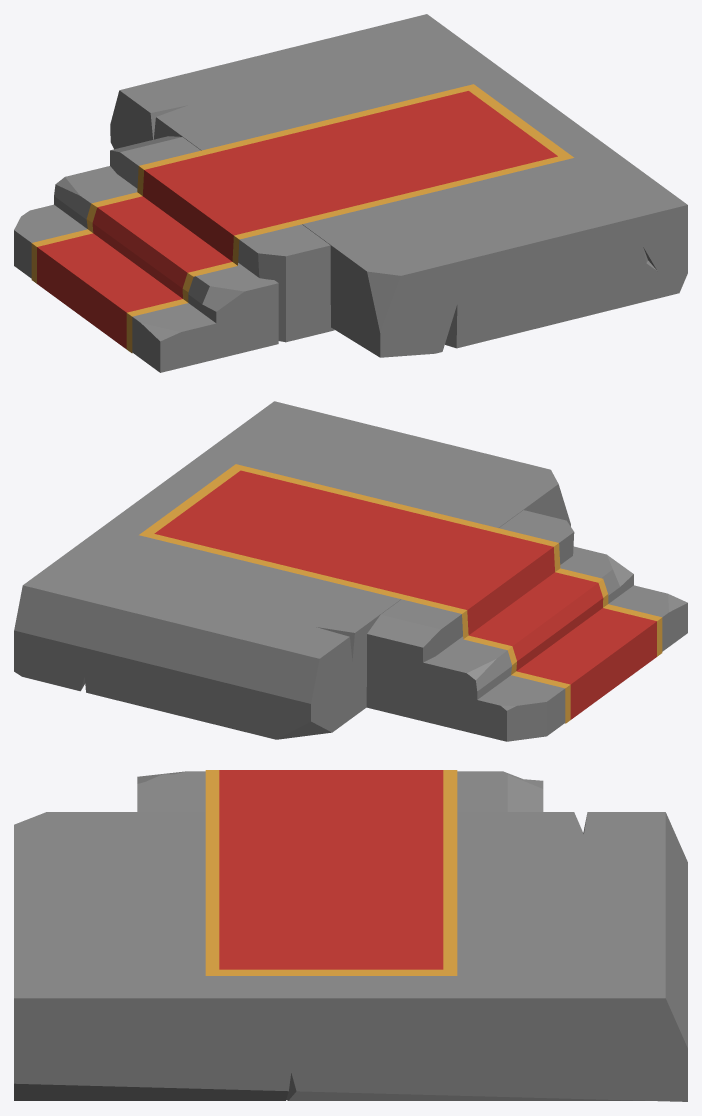
The model's file is DisplayStand_carpet.fbx.
The picture shows the model from 3 angles, top to bottom: view 1: azimuth 30°, elevation 25°; view 2: azimuth 150°, elevation 25°; view 3: azimuth 270°, elevation 25°; orthographic projection. The views are drawn at different scales.
Parts seen in each view (by area): view 1: Cube.006; view 2: Cube.006; view 3: Cube.006.
Boxes of the visible parts, box(x1,y1,x2,y2) form: Cube.006: box(14, 14, 687, 372); Cube.006: box(14, 401, 687, 741); Cube.006: box(14, 770, 687, 1101).
Size of the model in its own units: 280 by 49.18 by 273.
